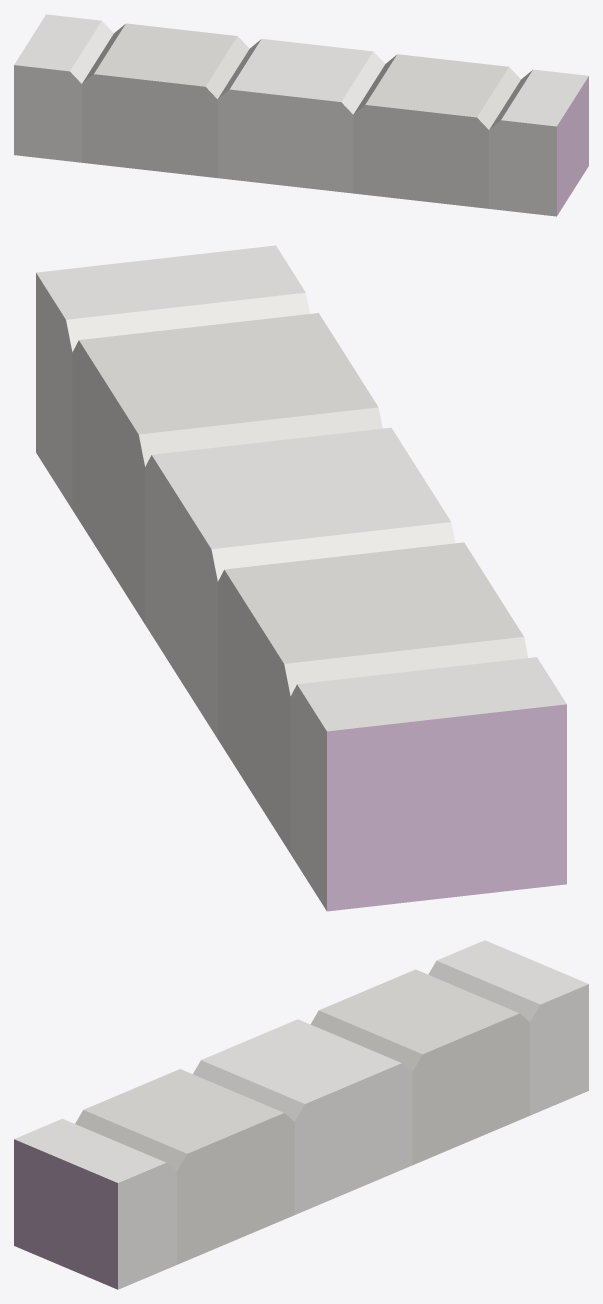
Rendered from Path_Edging_Stones_45_Degrees_Straight_2x2.glb.
The picture shows the model from 3 angles, top to bottom: view 1: azimuth 30°, elevation 25°; view 2: azimuth 150°, elevation 25°; view 3: azimuth 270°, elevation 25°; orthographic projection. The views are drawn at different scales.
Visible parts, largest first — view 1: Path_Edging_Stones_45_Degrees_Straight_2x2; view 2: Path_Edging_Stones_45_Degrees_Straight_2x2; view 3: Path_Edging_Stones_45_Degrees_Straight_2x2.
Boxes of the visible parts, left/top/right/bottom form: Path_Edging_Stones_45_Degrees_Straight_2x2: left=14, top=14, right=588, bottom=216; Path_Edging_Stones_45_Degrees_Straight_2x2: left=36, top=245, right=566, bottom=911; Path_Edging_Stones_45_Degrees_Straight_2x2: left=14, top=940, right=588, bottom=1289.
Size of the model in its own units: 122 by 25 by 122.
